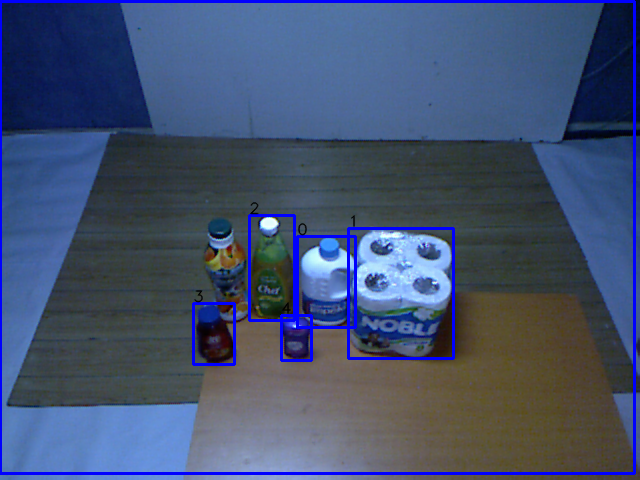aceite: (246, 215, 302, 327)
cloro: (294, 233, 360, 329)
confort: (348, 227, 454, 362)
desodorante: (277, 311, 317, 365)
ketchup: (189, 301, 238, 363)
yogurt: (197, 216, 257, 322)
